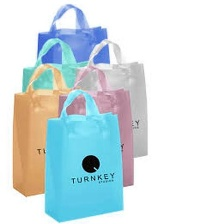plastic_bag: (41, 88, 127, 224), (54, 65, 136, 191), (10, 61, 81, 196), (74, 37, 151, 159), (30, 1, 112, 67), (18, 35, 94, 93)
